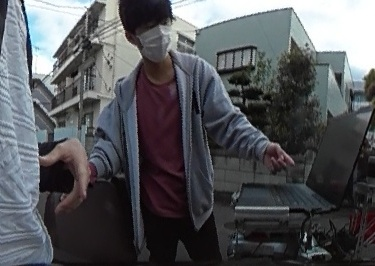person: (111, 0, 226, 266)
